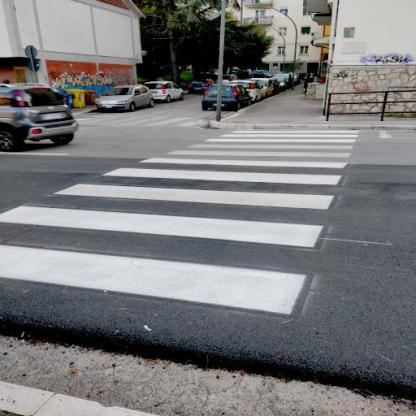crosswalk: (46, 165, 348, 213), (199, 132, 362, 146)
